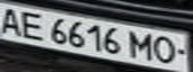1: (84, 23, 106, 53)
6: (103, 25, 127, 56), (45, 16, 69, 46), (63, 19, 87, 49)
A: (0, 4, 27, 36)
E: (15, 10, 48, 40)
M: (127, 29, 160, 61)
O: (151, 34, 184, 65)
